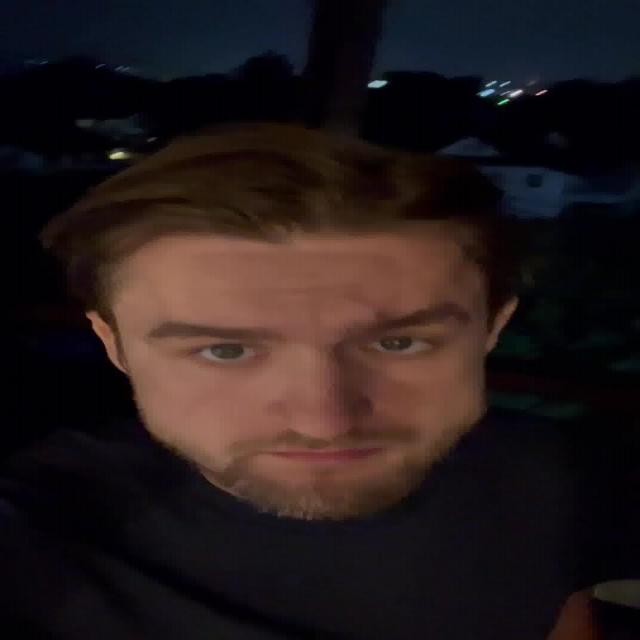earlobe: (86, 312, 130, 378), (478, 296, 527, 355)
